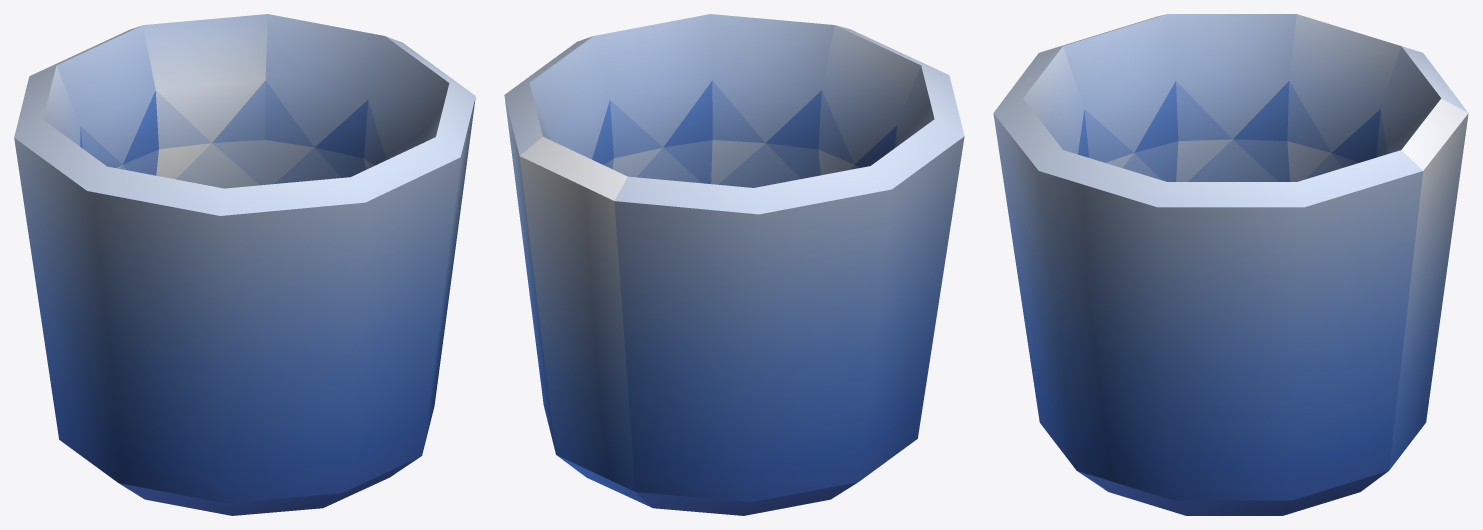
The model's file is m_Whiskey01.fbx.
3 views of the same model, side by side, from view 1: azimuth 30°, elevation 25°; view 2: azimuth 150°, elevation 25°; view 3: azimuth 270°, elevation 25° (orthographic).
Visible parts, largest first — view 1: m_Whiskey01; view 2: m_Whiskey01; view 3: m_Whiskey01.
Boxes of the visible parts, x1=… form: m_Whiskey01: x1=14, y1=14, x2=475, y2=515; m_Whiskey01: x1=504, y1=14, x2=964, y2=515; m_Whiskey01: x1=993, y1=14, x2=1468, y2=515.
Bounding box in the file's own units: 14.82 × 12.79 × 15.58.
